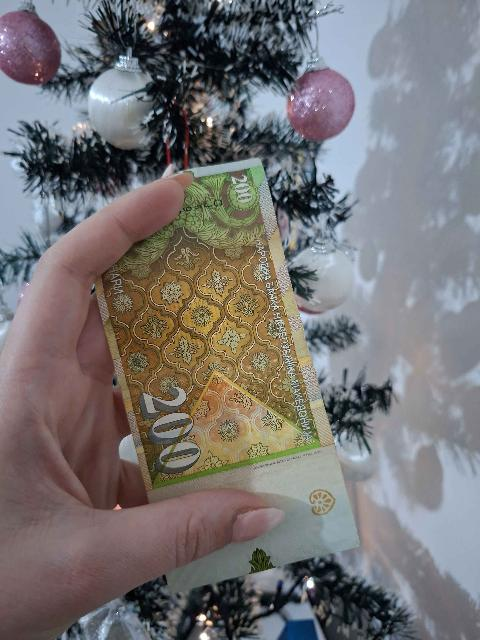note: (96, 160, 357, 590)
